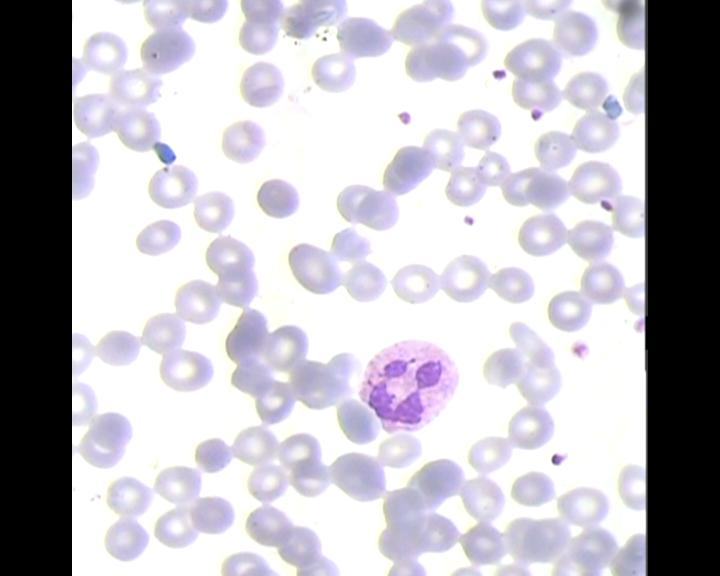neut: (356, 338, 459, 437)
